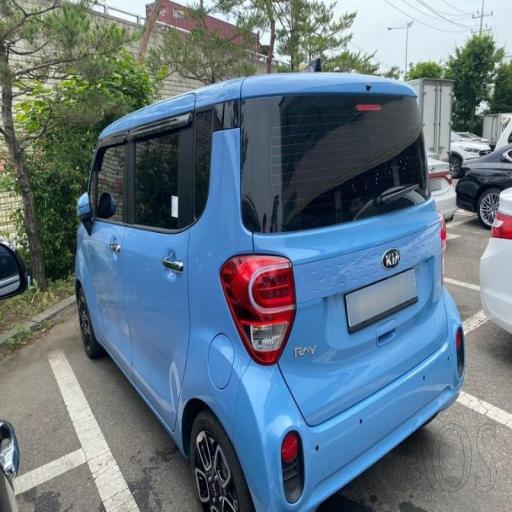dent: (232, 264, 336, 446)
scratch: (296, 202, 476, 462)
